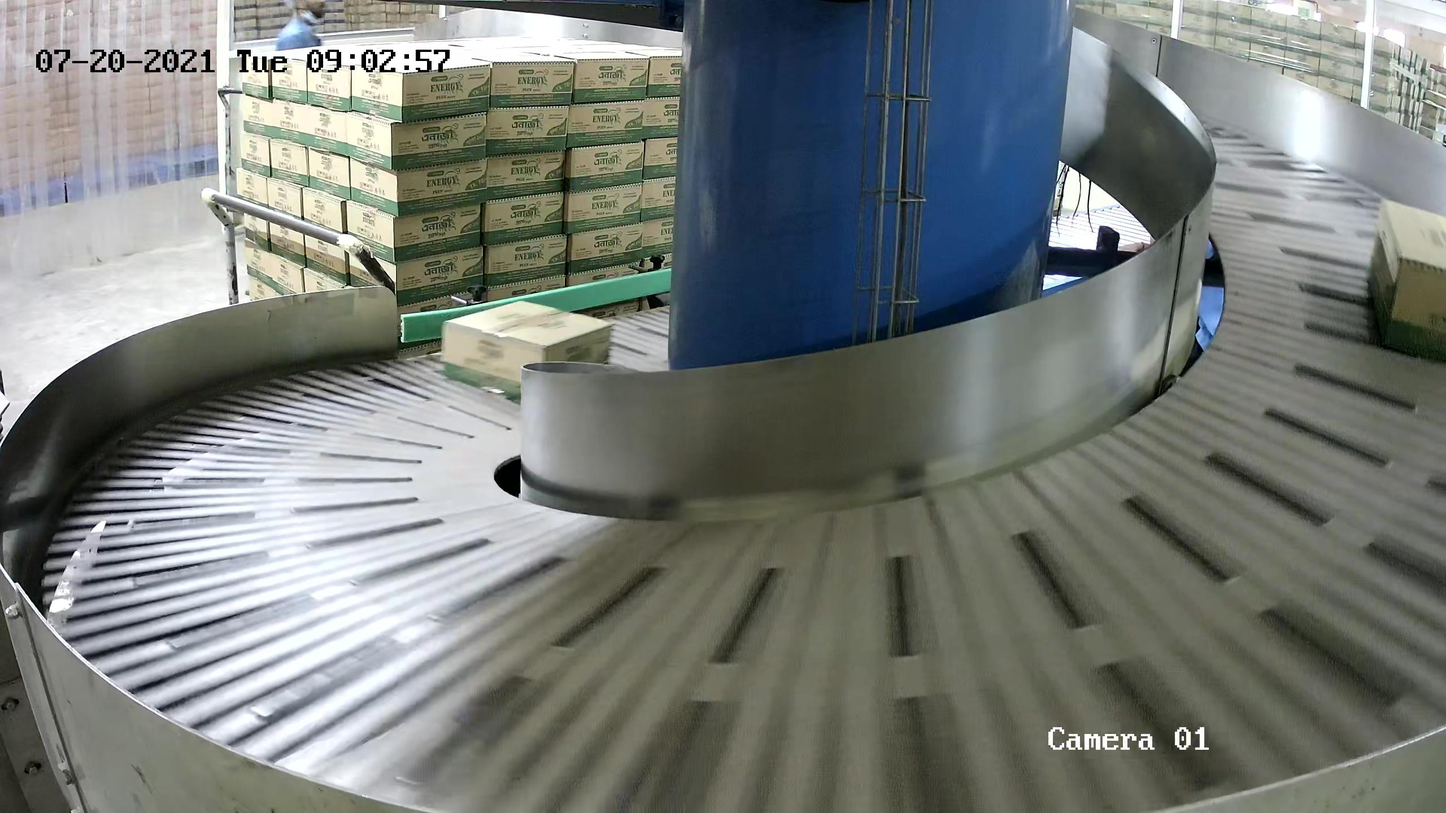Box: (441, 299, 613, 402)
